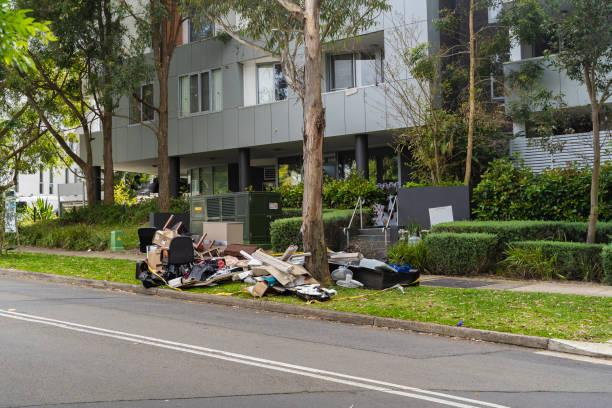trash: (351, 249, 422, 295), (136, 243, 179, 296), (128, 220, 183, 255), (237, 247, 298, 276), (176, 254, 218, 294), (243, 263, 280, 303), (291, 275, 336, 307), (213, 246, 245, 288), (289, 251, 319, 288), (272, 254, 298, 296), (167, 237, 193, 278), (190, 231, 221, 265), (334, 259, 360, 298), (326, 246, 363, 268), (285, 241, 304, 264)
